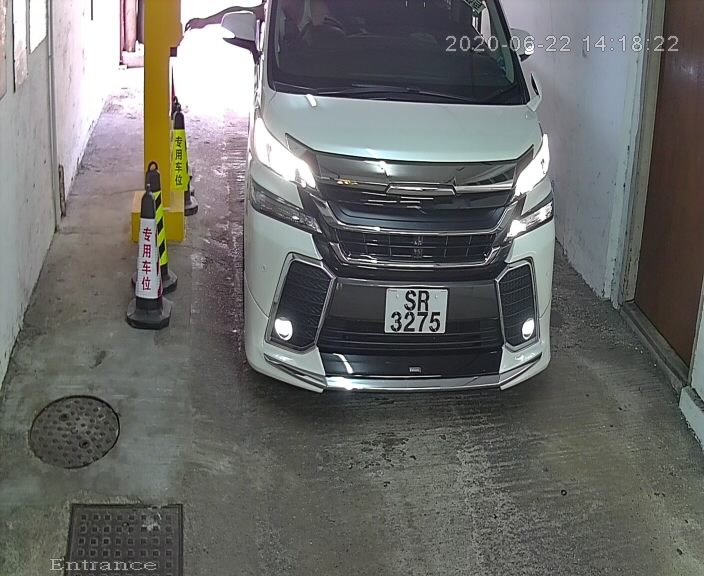privatecar: (215, 2, 569, 410)
